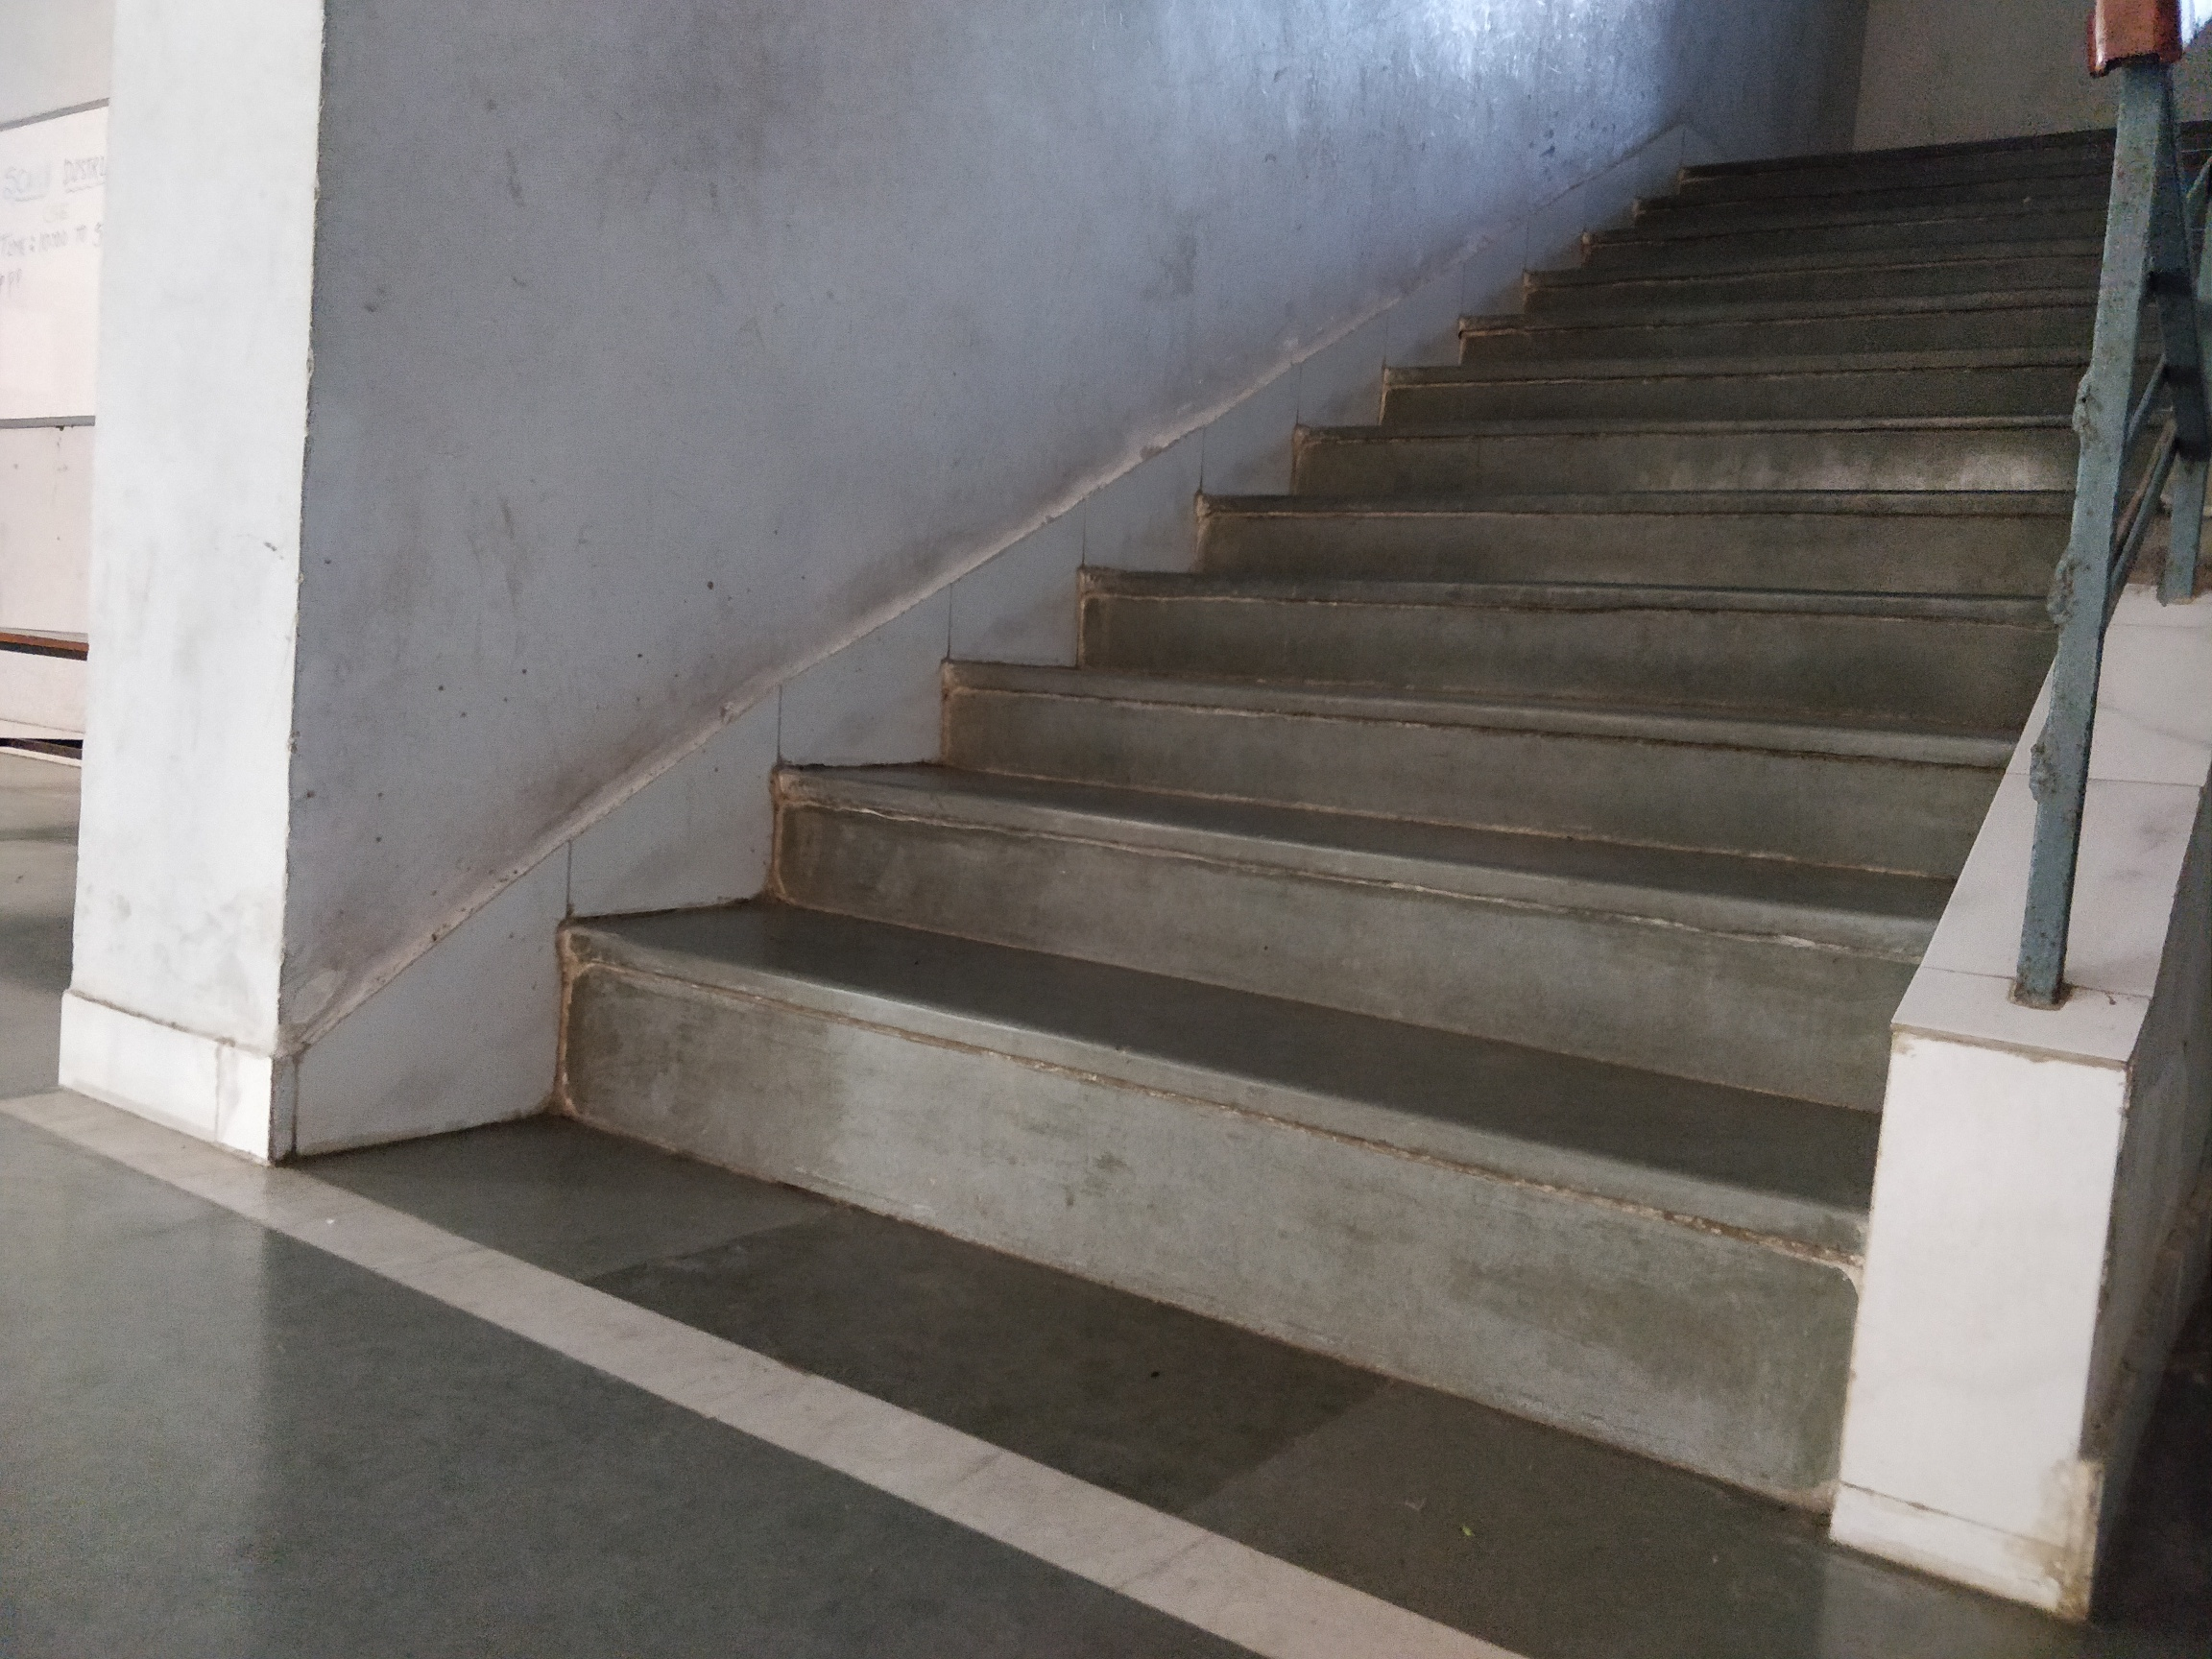stairs_up: (557, 105, 2123, 1563)
